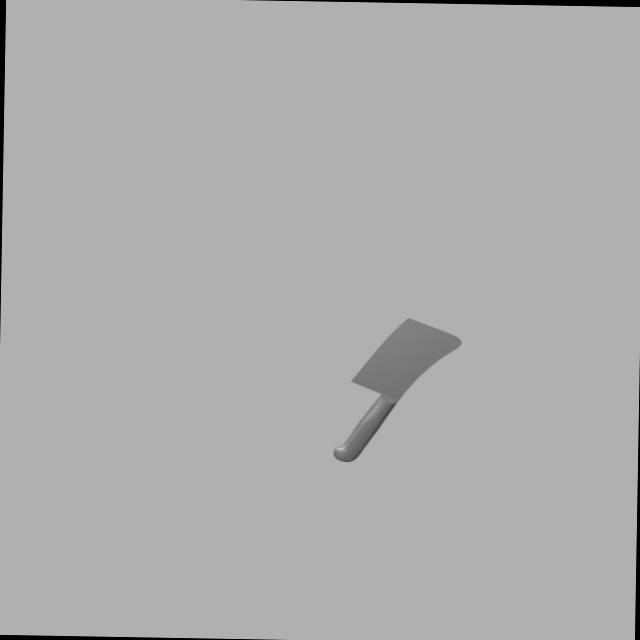knife: (332, 392, 398, 461)
